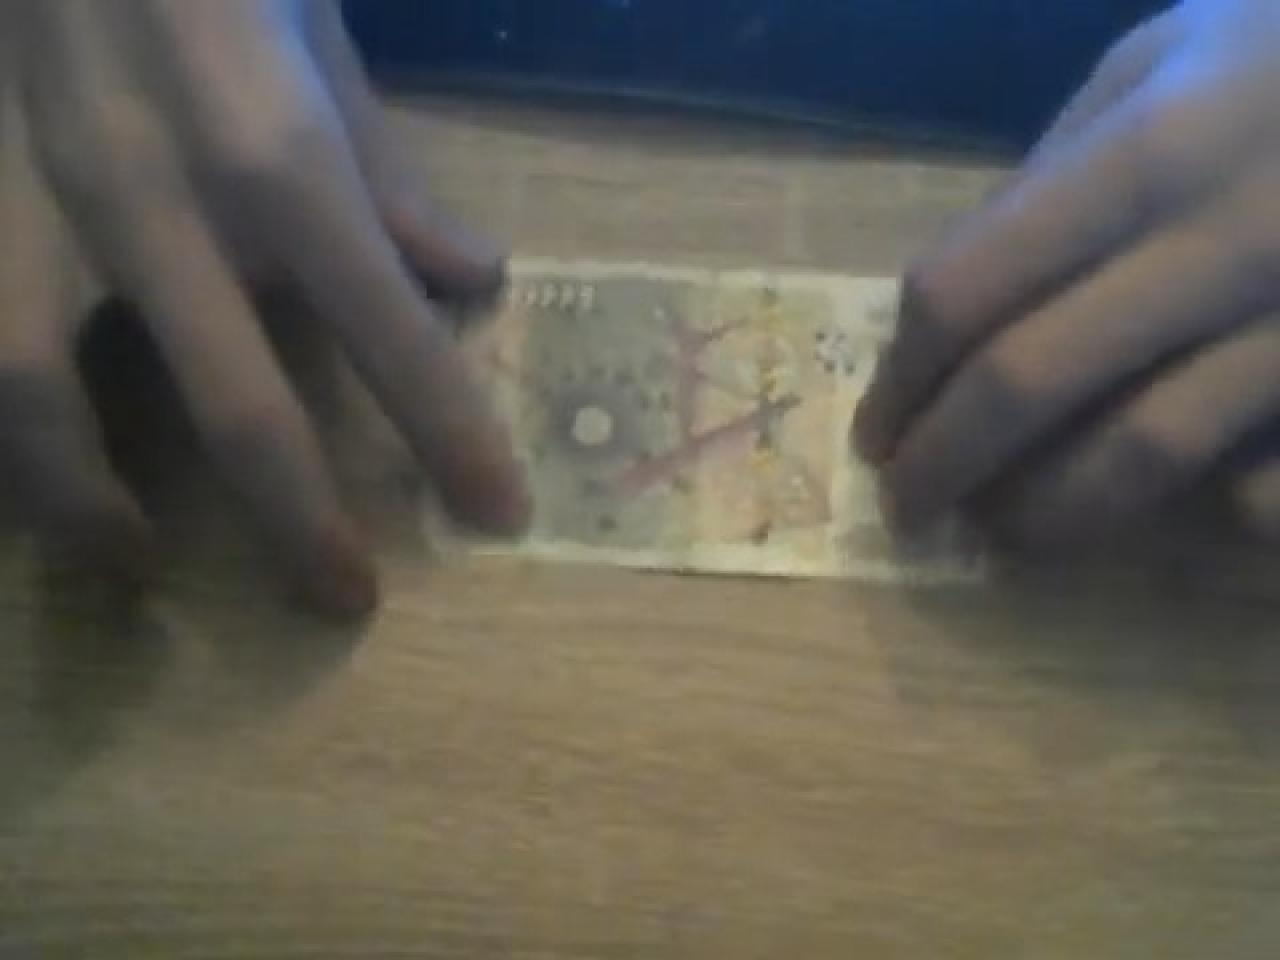10leva: (491, 259, 893, 579)
